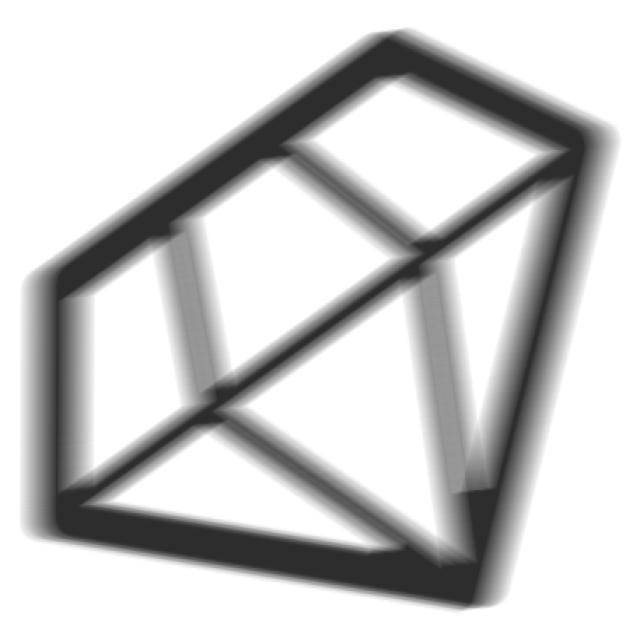diamond: (11, 19, 630, 612)
